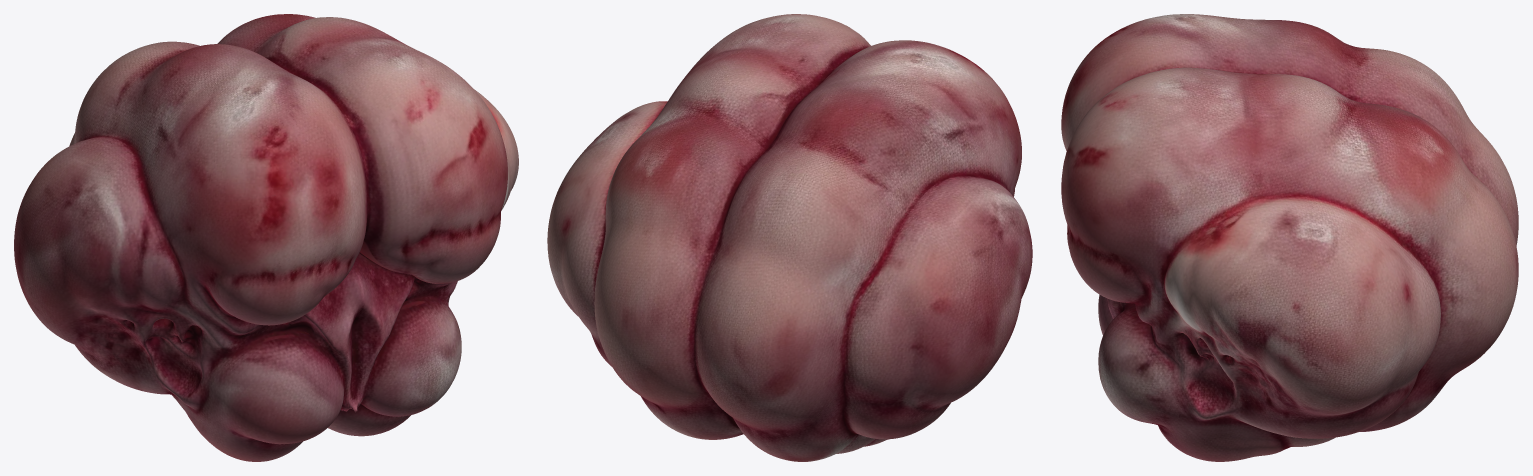
Rendered from mammary-tumor.glb.
The picture shows the model from 3 angles, left to right: view 1: azimuth 30°, elevation 25°; view 2: azimuth 150°, elevation 25°; view 3: azimuth 270°, elevation 25°; orthographic projection. The views are drawn at different scales.
Visible parts, largest first — view 1: model; view 2: model; view 3: model.
Part boxes in pixels (<box>): model: <box>14,14,518,461</box>; model: <box>547,14,1032,461</box>; model: <box>1061,14,1518,461</box>.
Size of the model in its own units: 1.9 by 1.51 by 1.65.
1 material, 1 textured.
